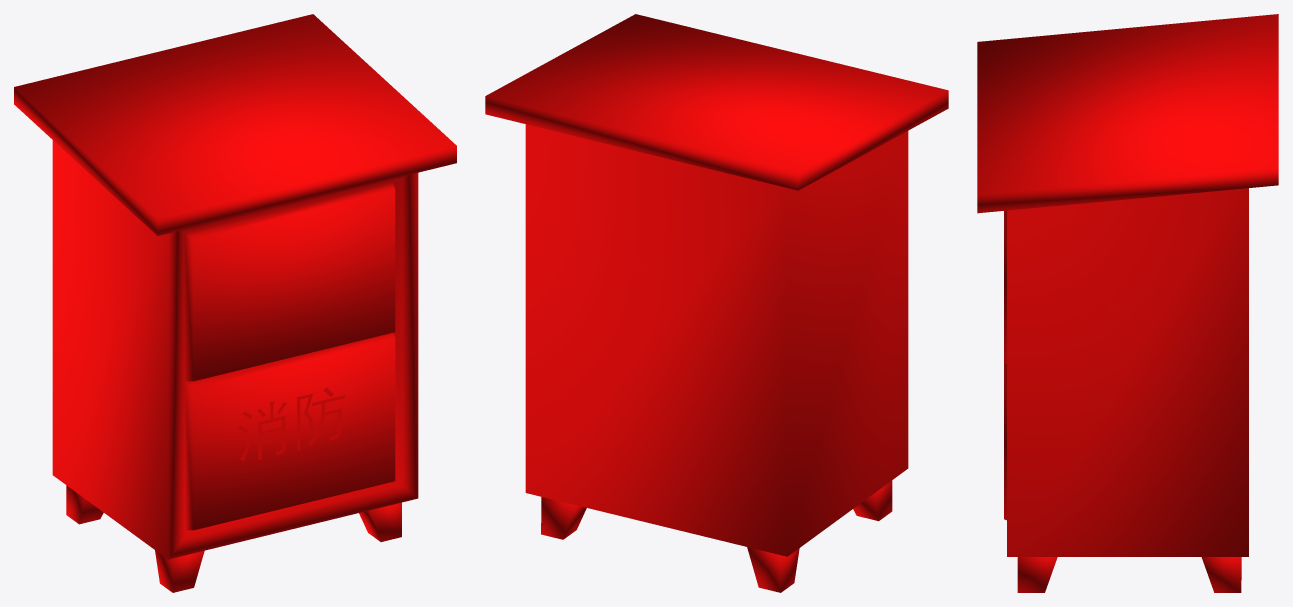
Rendered from fireEquipment.obj.
The picture shows the model from 3 angles, left to right: view 1: azimuth 30°, elevation 25°; view 2: azimuth 150°, elevation 25°; view 3: azimuth 270°, elevation 25°; orthographic projection. The views are drawn at different scales.
Size of the model in its own units: 79.93 by 108 by 66.48.
